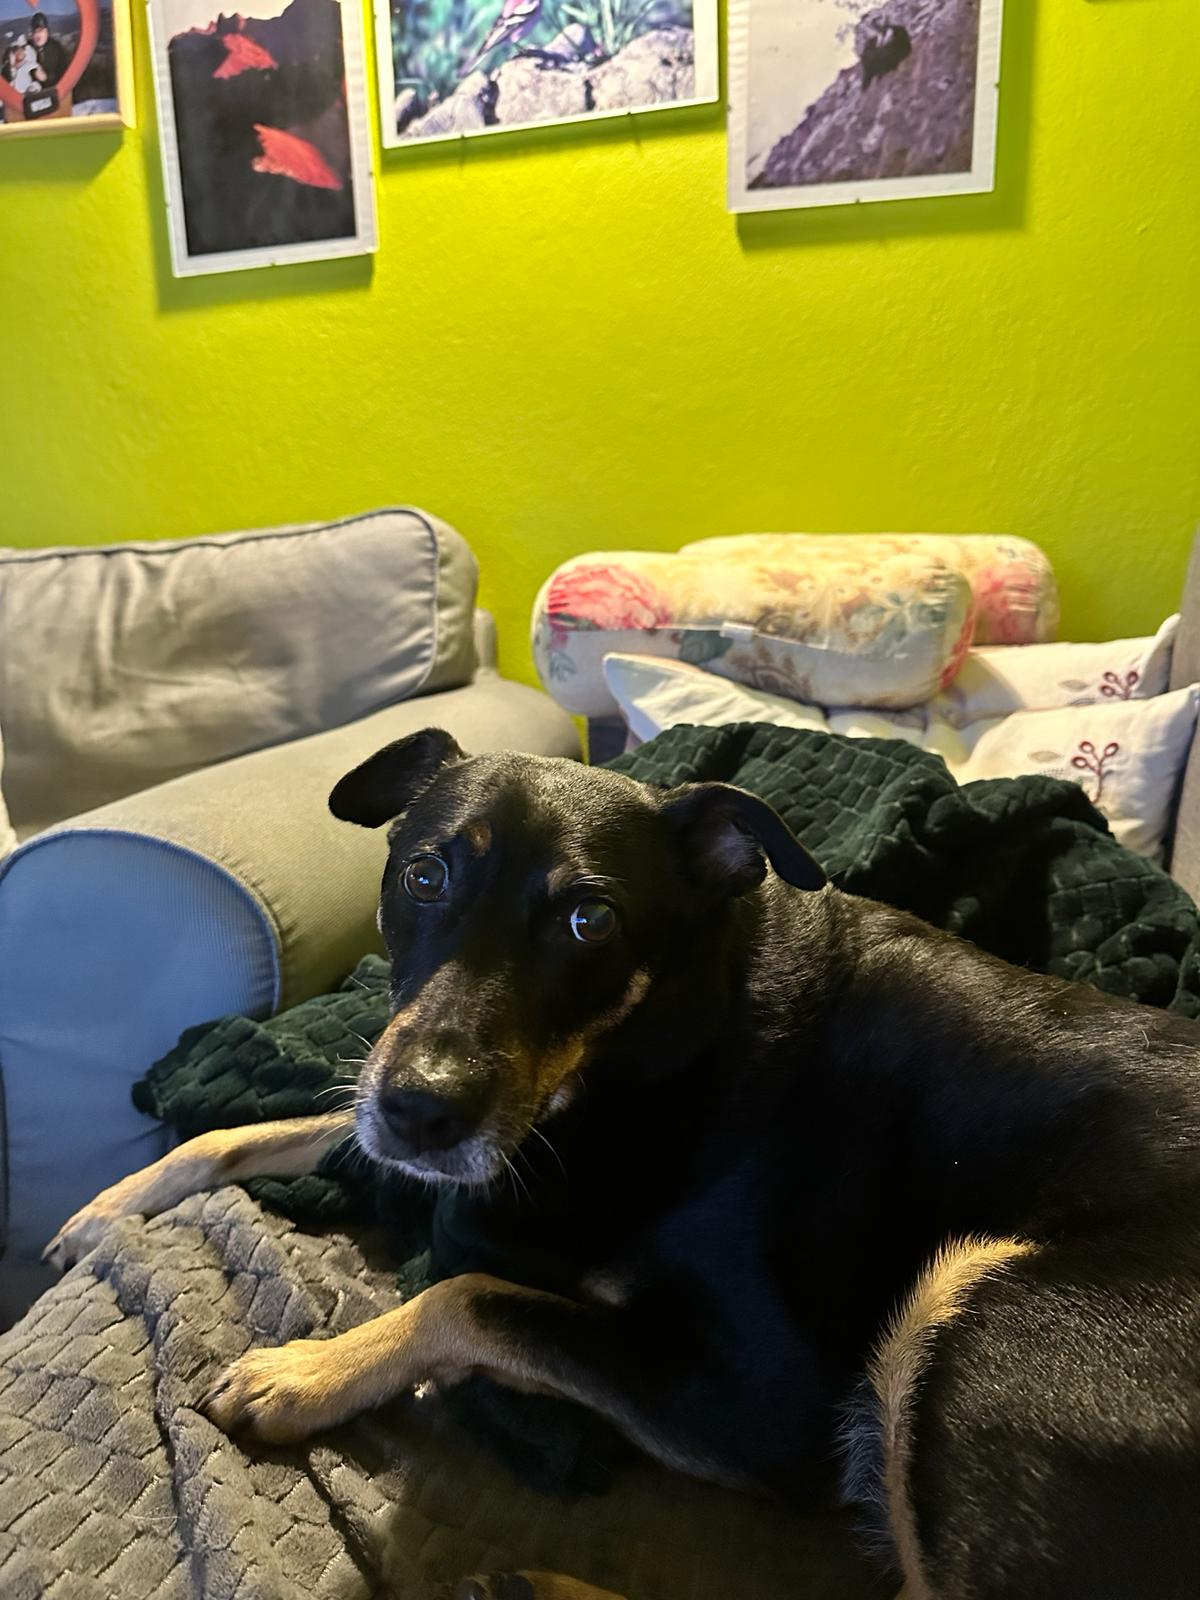reksio: (200, 688, 1143, 1555)
